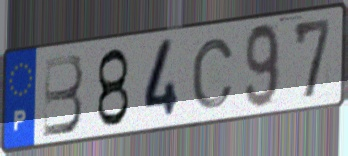4: (141, 35, 185, 124)
7: (291, 16, 334, 102)
8: (95, 46, 131, 129)
9: (242, 21, 283, 113)
B: (41, 51, 85, 140)
C: (189, 36, 236, 111)
